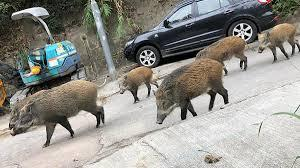wildboar: (7, 76, 109, 148), (152, 58, 229, 125), (255, 22, 300, 66), (117, 66, 159, 103)
